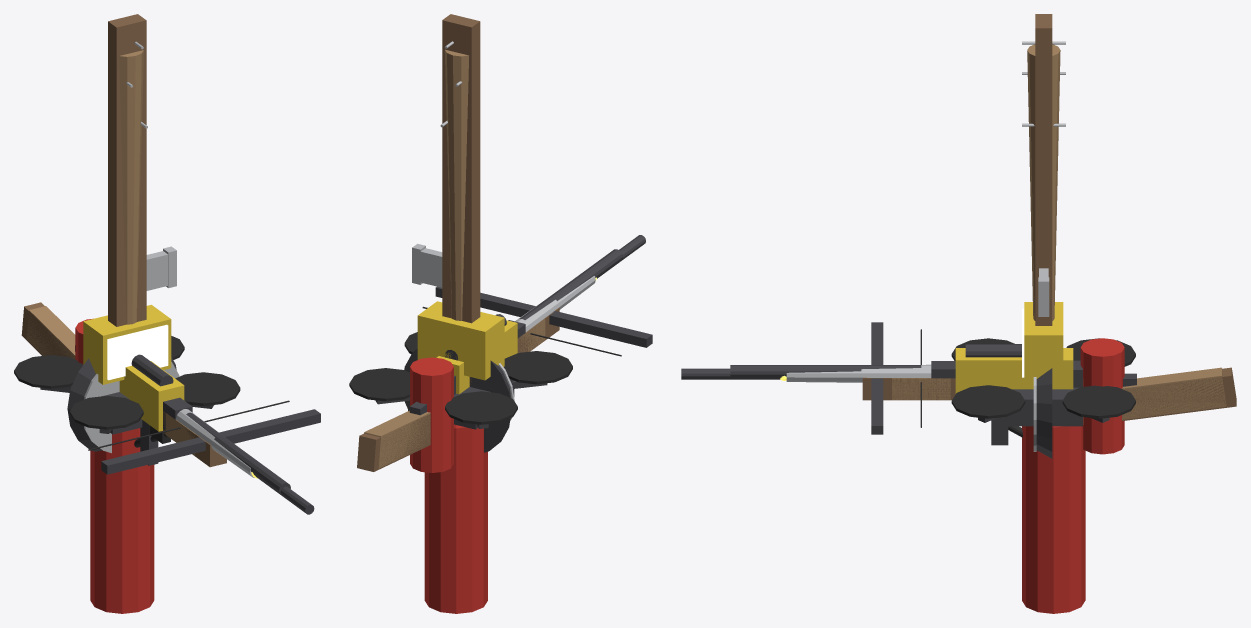
Rendered from props.glb.
The picture shows the model from 3 angles, left to right: view 1: azimuth 30°, elevation 25°; view 2: azimuth 150°, elevation 25°; view 3: azimuth 270°, elevation 25°; orthographic projection.
Parts seen in each view (by area): view 1: W-05, W-15, W-24, W-01, W-11, W-17, W-07, W-08, W-21, W-03, W-20, W-14 (+1 smaller); view 2: W-05, W-15, W-24, W-01, W-20, W-11, W-07, W-08, W-17, W-03, W-14, W-21; view 3: W-05, W-07, W-24, W-15, W-08, W-20, W-01, W-21, W-11, W-03, W-17, W-18.
Boxes of the visible parts, x1,y1,x2,y2 form: W-05: [90, 428, 167, 613]; W-15: [108, 14, 147, 326]; W-24: [14, 336, 240, 434]; W-01: [119, 50, 143, 324]; W-11: [83, 304, 171, 384]; W-17: [88, 400, 320, 474]; W-07: [26, 306, 290, 494]; W-08: [21, 302, 314, 514]; W-21: [119, 361, 184, 443]; W-03: [67, 357, 179, 453]; W-20: [75, 318, 257, 478]; W-14: [146, 246, 176, 290]; W-05: [424, 424, 487, 613]; W-15: [440, 14, 480, 386]; W-24: [349, 332, 572, 429]; W-01: [444, 49, 468, 320]; W-20: [410, 276, 596, 472]; W-11: [417, 301, 504, 380]; W-07: [364, 249, 622, 468]; W-08: [357, 235, 645, 471]; W-17: [422, 286, 652, 356]; W-03: [404, 348, 514, 452]; W-14: [412, 243, 442, 287]; W-21: [436, 320, 517, 394]; W-05: [1008, 426, 1085, 613]; W-07: [730, 360, 1226, 424]; W-24: [951, 338, 1135, 426]; W-15: [1022, 14, 1065, 325]; W-08: [681, 344, 1236, 420]; W-20: [780, 338, 1124, 454]; W-01: [1027, 44, 1060, 320]; W-21: [955, 348, 1073, 393]; W-11: [1022, 302, 1063, 383]; W-03: [1033, 368, 1052, 458]; W-17: [871, 322, 921, 434]; W-18: [931, 361, 1136, 445].
Size of the model in its own units: 0.5 by 1.31 by 1.13.
